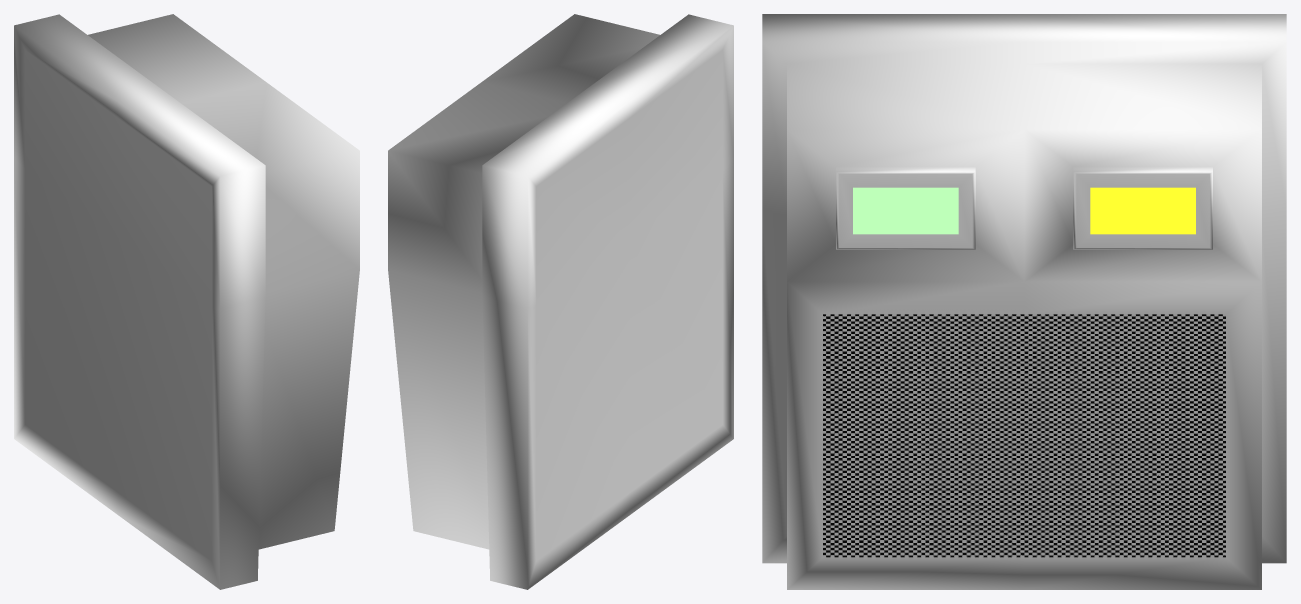
File: intercom.glb
The picture shows the model from 3 angles, left to right: view 1: azimuth 30°, elevation 25°; view 2: azimuth 150°, elevation 25°; view 3: azimuth 270°, elevation 25°; orthographic projection. The views are drawn at different scales.
Parts seen in each view (by area): view 1: intercom_LP; view 2: intercom_LP; view 3: intercom_LP.
Boxes of the visible parts, box(x1,y1,x2,y2) form: intercom_LP: box(14, 14, 359, 589); intercom_LP: box(388, 14, 733, 589); intercom_LP: box(762, 14, 1286, 589).
Bounding box in the file's own units: 0.089 × 0.2227 × 0.2013.
Materials: 3 (1 with a texture image).
